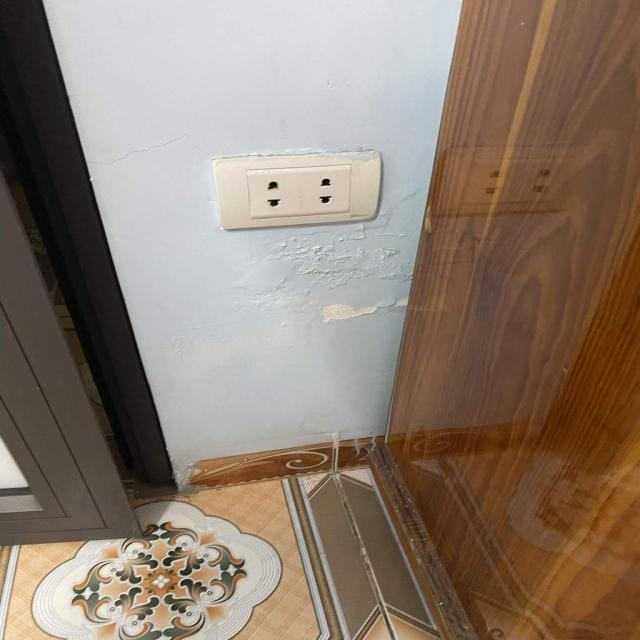outlet: (210, 148, 382, 230)
